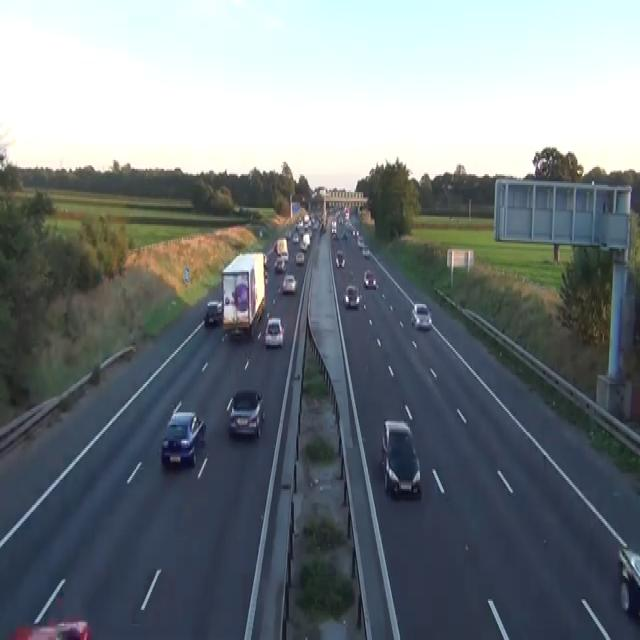Car: (7, 578, 90, 638), (380, 420, 421, 498), (161, 410, 205, 468), (225, 388, 265, 439), (617, 546, 639, 618), (7, 619, 90, 638), (55, 619, 90, 638), (264, 316, 284, 348), (410, 302, 432, 329), (204, 299, 222, 325), (343, 284, 360, 308), (282, 274, 297, 293), (363, 268, 377, 288), (273, 258, 286, 274), (335, 249, 345, 267), (300, 233, 310, 251), (295, 251, 304, 265), (362, 245, 370, 258), (357, 236, 365, 249), (292, 231, 299, 244), (262, 250, 267, 268), (331, 218, 336, 234), (233, 203, 240, 213), (281, 251, 288, 261), (264, 268, 268, 284), (351, 228, 358, 236), (341, 230, 347, 238), (259, 230, 262, 237)
Truck: (221, 250, 265, 338)
